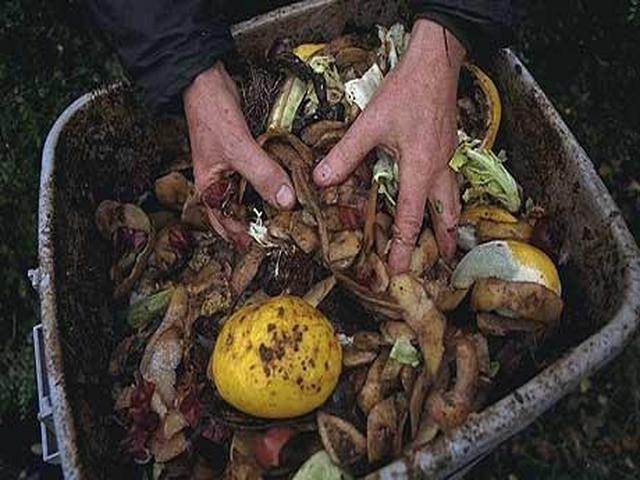garbage: (112, 256, 392, 445)
